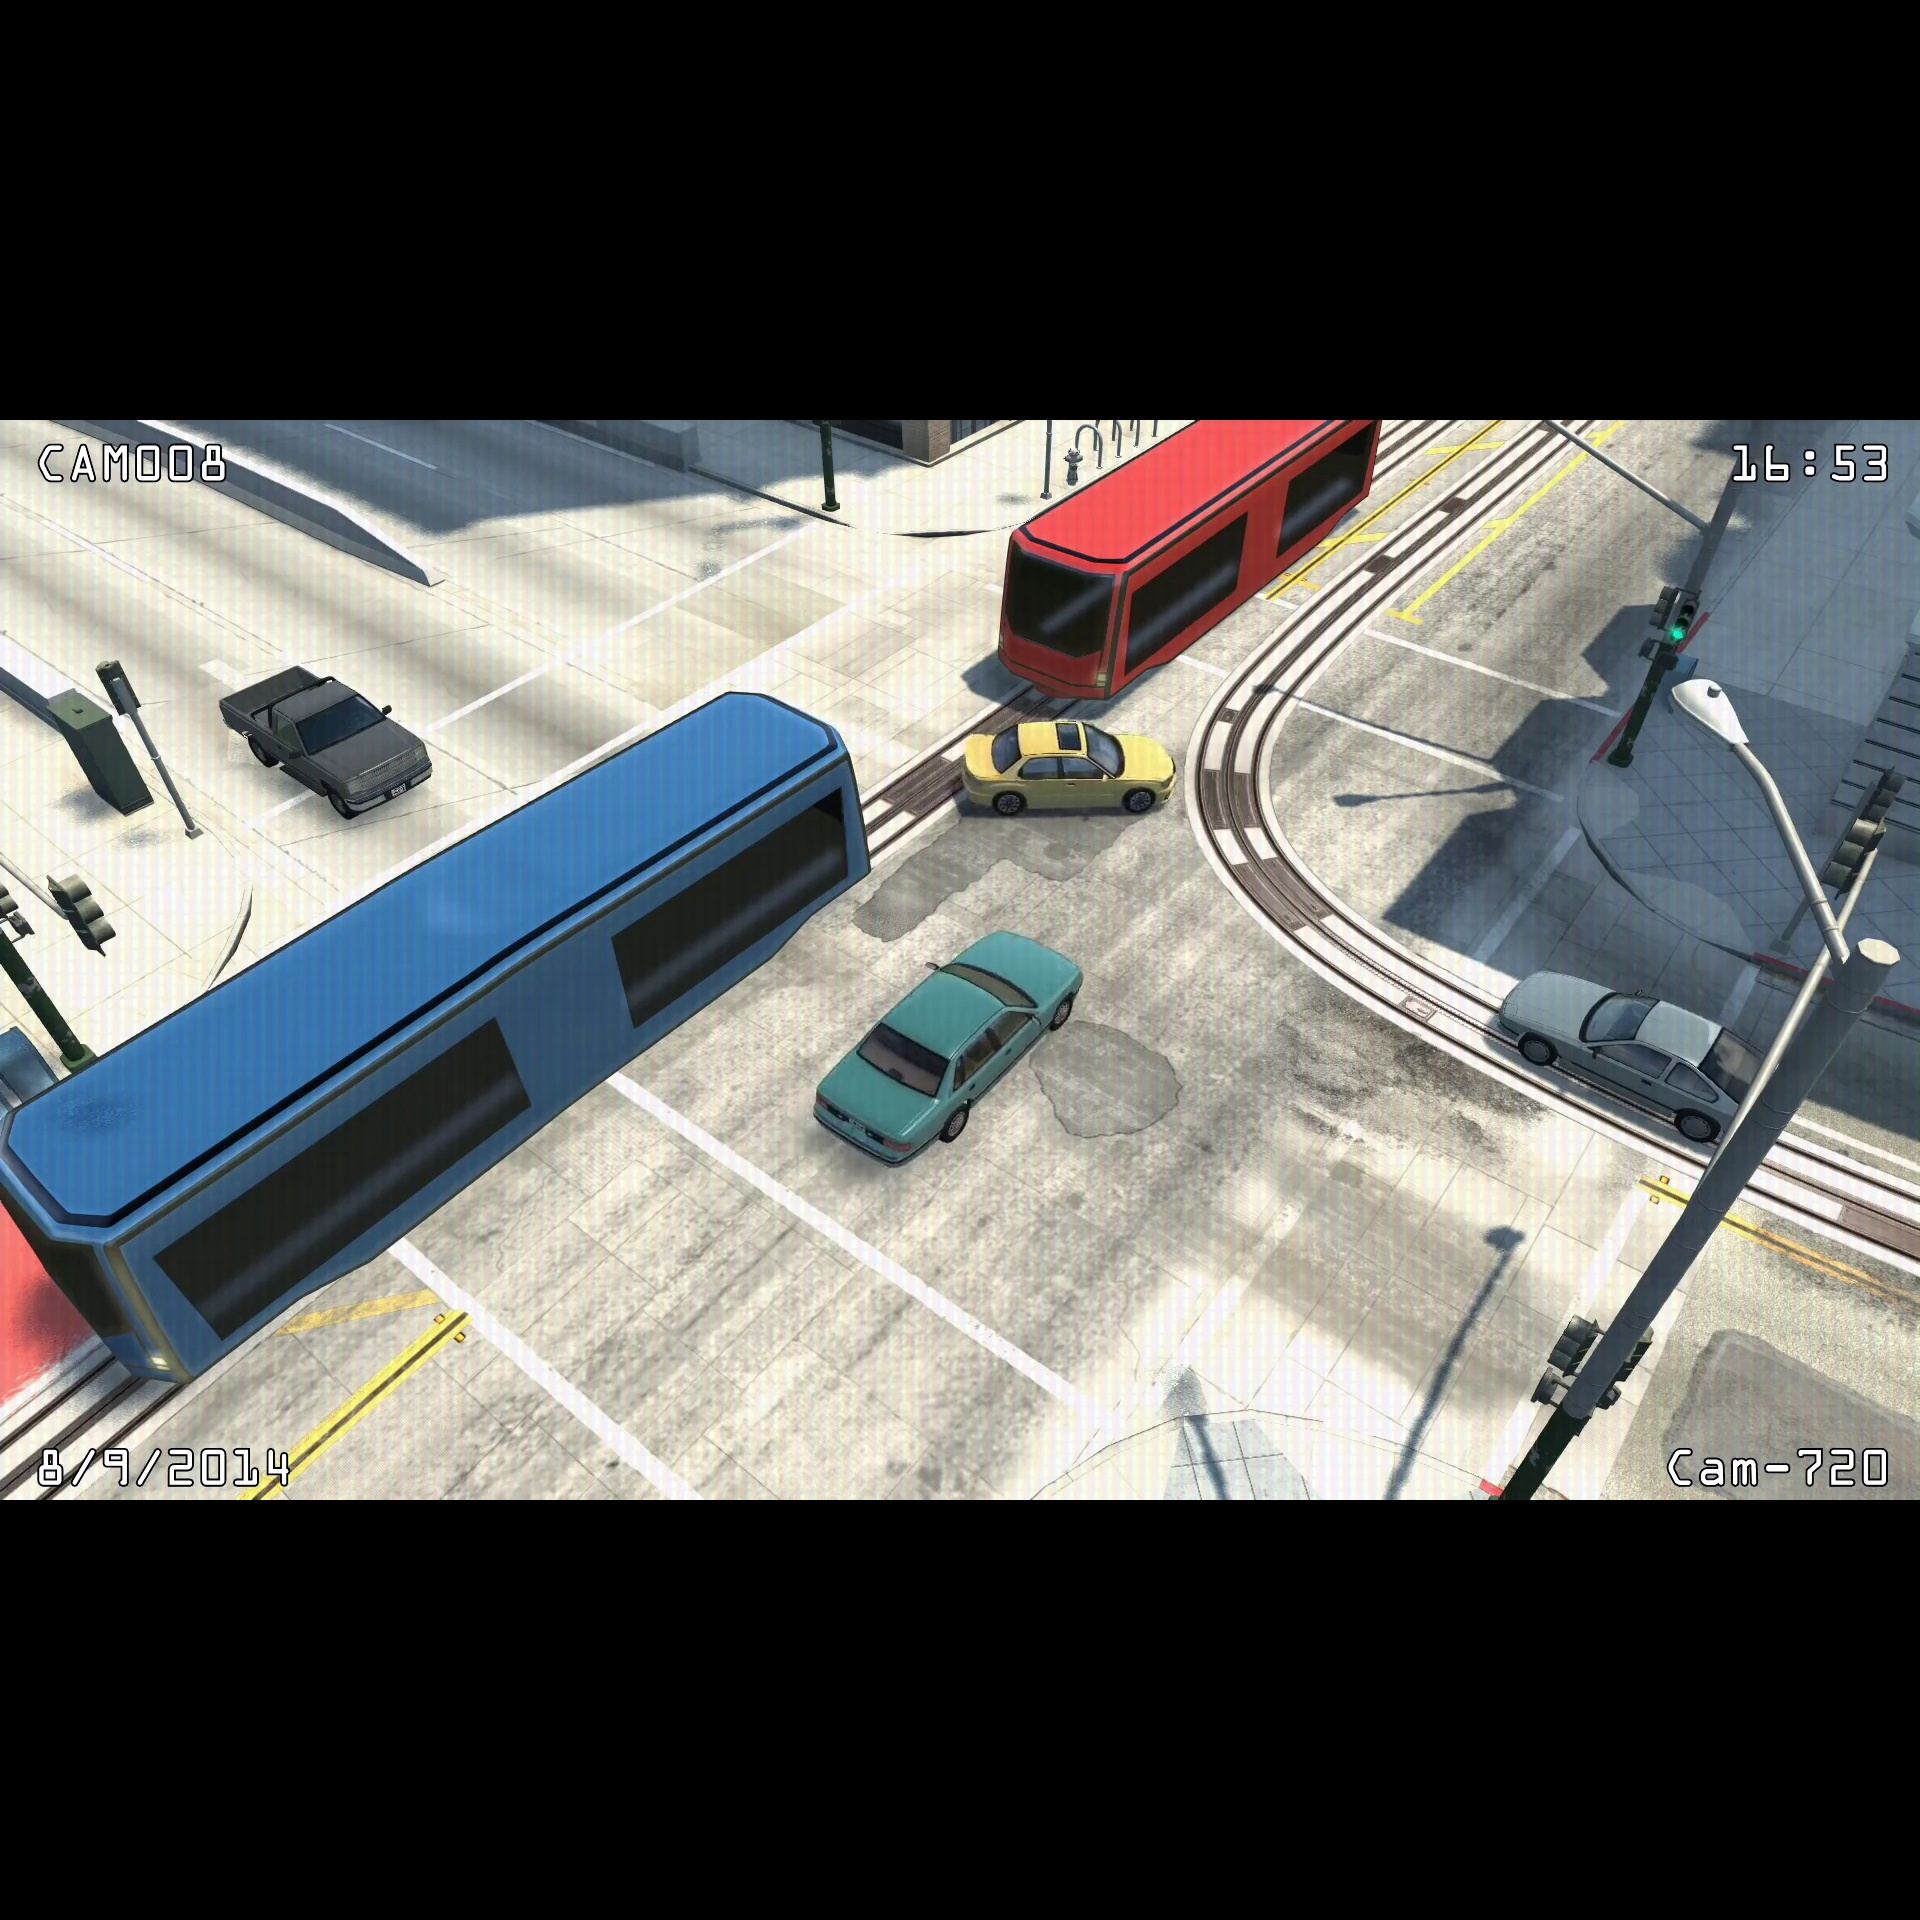vehicle: (2, 677, 879, 1394), (992, 418, 1393, 707), (812, 920, 1095, 1173), (1489, 955, 1769, 1146), (211, 658, 447, 823), (949, 723, 1187, 823)
